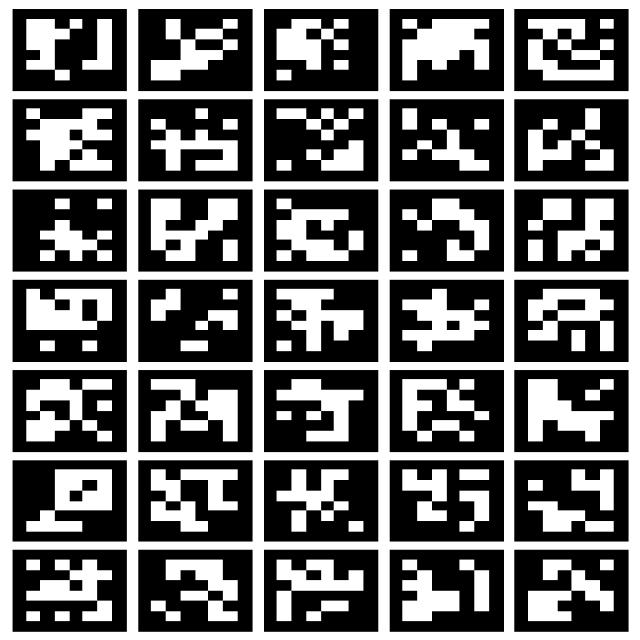aruco: (8, 188, 136, 272), (392, 7, 508, 96), (11, 97, 130, 180), (269, 277, 382, 364), (395, 548, 506, 636), (142, 8, 252, 96), (392, 192, 506, 276), (264, 460, 380, 542), (519, 551, 631, 635), (15, 551, 131, 632), (395, 461, 508, 544), (395, 280, 504, 366), (142, 276, 250, 361), (11, 459, 127, 538), (16, 372, 130, 452), (265, 370, 379, 450), (520, 8, 628, 92), (266, 10, 377, 91), (397, 100, 504, 184), (519, 368, 624, 453), (266, 191, 376, 272), (142, 551, 252, 632), (395, 369, 502, 451), (142, 190, 249, 271), (16, 12, 126, 90), (516, 192, 626, 270), (16, 280, 126, 358), (268, 551, 377, 629), (142, 103, 247, 183), (273, 101, 378, 181), (142, 461, 248, 540), (519, 104, 627, 180), (518, 282, 626, 358), (142, 370, 247, 448), (519, 460, 620, 540)
